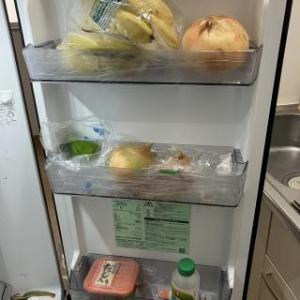onion: (180, 13, 250, 78), (109, 142, 157, 184), (166, 144, 194, 174)
